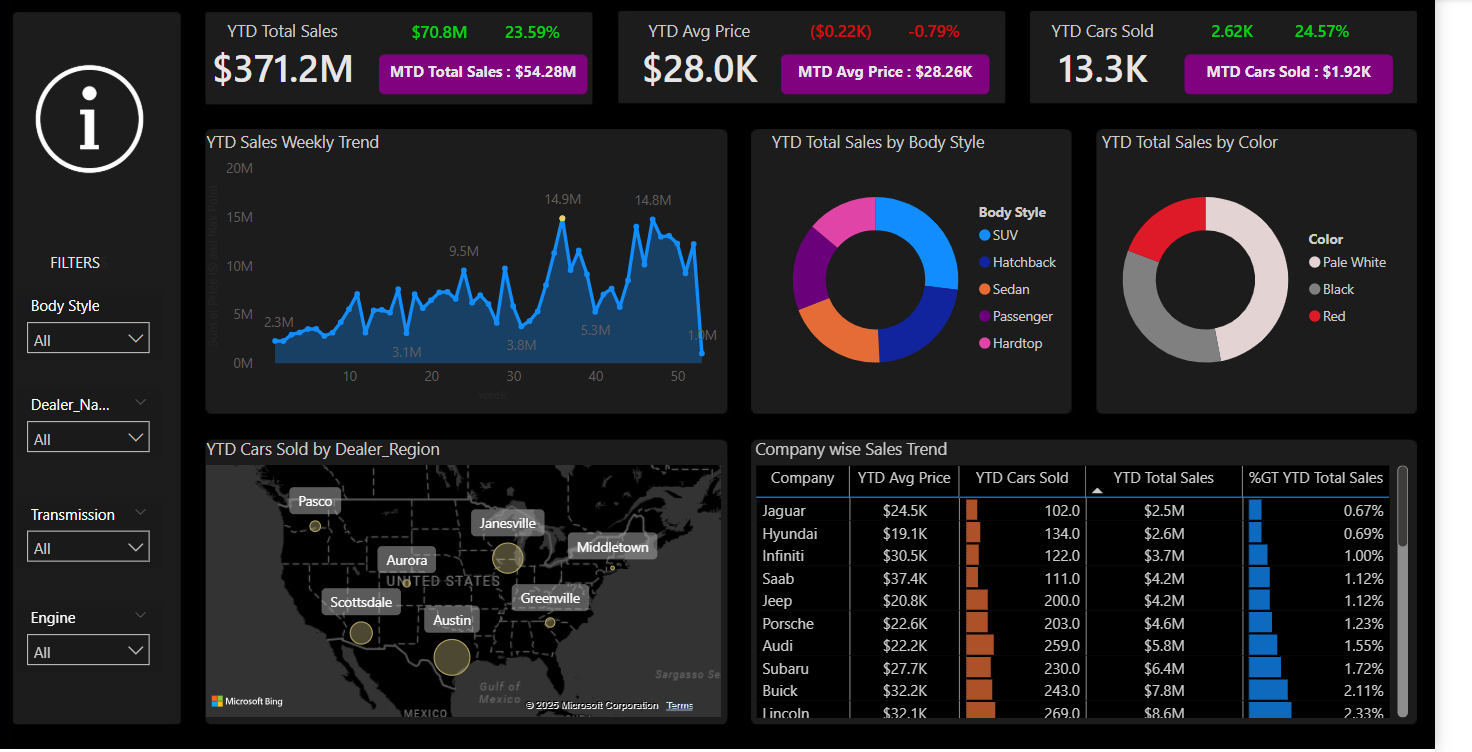

This screenshot's page, from the dashboard's own definition file:
{"tool":"powerbi","page":{"name":"Page 1","canvas":[1280,720],"ordinal":0},"visuals":[{"type":"card","title":"  YTD Total Sales","fields":{"Values":["car_data.YTD Total Sales"]},"box":[183.3,68,145.5,66.1],"z":0},{"type":"card","fields":{"Values":["car_data.Sales Difference"]},"box":[328.8,62.4,130.4,37.8],"z":1000},{"type":"card","fields":{"Values":["car_data.YoY Sales Growth"]},"box":[412,62.4,130.4,37.8],"z":2000},{"type":"card","fields":{"Values":["car_data.MTD KPI"]},"box":[341.7,100,185,35],"z":3000},{"type":"card","title":"  YTD Avg Price","fields":{"Values":["car_data.YTD Avg Price"]},"box":[553.3,68.3,145,66.7],"z":4000},{"type":"card","fields":{"Values":["car_data.Avg Price Diff"]},"box":[685,61.7,131.7,38.3],"z":5000},{"type":"card","fields":{"Values":["car_data.YoY Avg Price Growth"]},"box":[768.3,61.7,131.7,38.3],"z":6000},{"type":"card","fields":{"Values":["car_data.MTD Avg Price KPI"]},"box":[698.3,100,185,35],"z":7000},{"type":"card","title":"  YTD Cars Sold","fields":{"Values":["car_data.YTD Cars Sold"]},"box":[911.7,68.3,145,66.7],"z":8000},{"type":"card","fields":{"Values":["car_data.Cars Sold Diff"]},"box":[1033.3,61.7,131.7,38.3],"z":9000},{"type":"card","fields":{"Values":["car_data.YoY Car Sold Growth"]},"box":[1113.3,61.7,131.7,38.3],"z":10000},{"type":"card","fields":{"Values":["car_data.MTD Cars Sold KPI"]},"box":[1056.7,100,185,35],"z":11000},{"type":"areaChart","title":"YTD Sales Weekly Trend","fields":{"Category":["Calender Table.week"],"Y":["Sum(car_data.Price ($))","car_data.Max Point"]},"box":[182.9,167,467.6,246.5],"z":12000},{"type":"donutChart","fields":{"Category":["car_data.Body Style"],"Y":["car_data.YTD Total Sales"]},"box":[685.6,167,272,246.5],"z":13000},{"type":"donutChart","fields":{"Y":["car_data.YTD Total Sales"],"Category":["car_data.Color"]},"box":[978.2,167,272,246.5],"z":14000},{"type":"map","fields":{"Category":["car_data.Dealer_Region"],"Size":["car_data.YTD Cars Sold"]},"box":[182.9,440.6,467.6,254.5],"z":15000},{"type":"tableEx","title":"Company wise Sales Trend","fields":{"Values":["car_data.Company","car_data.YTD Avg Price","car_data.YTD Cars Sold","car_data.YTD Total Sales1","car_data.YTD Total Sales"]},"box":[671.2,440.6,590.1,254.5],"z":16000},{"type":"textbox","box":[447,0,450.1,44.5],"z":17000},{"type":"slicer","fields":{"Values":["car_data.Body Style"]},"box":[19.1,308.6,128.8,63.6],"z":18000},{"type":"slicer","fields":{"Values":["car_data.Dealer_Name"]},"box":[19.1,396.1,128.8,63.6],"z":19000},{"type":"slicer","fields":{"Values":["car_data.Transmission"]},"box":[19.1,493.1,128.8,63.6],"z":20000},{"type":"slicer","fields":{"Values":["car_data.Engine"]},"box":[19.1,585.3,128.8,63.6],"z":21000},{"type":"textbox","box":[44.5,268.8,151.1,39.8],"z":22000},{"type":"image","box":[27,100.2,114.5,114.5],"z":23000}]}

Visuals, with their boxes on the page's 1280x720 design canvas (x1, y1, x2, y2). These are canvas units, not pixel positions in the 1472x752 screenshot, which may show the page scaled, cropped or inside an application window:
"  YTD Total Sales" card: bbox=(183, 68, 329, 134)
card - car_data.Sales Difference: bbox=(329, 62, 459, 100)
card - car_data.YoY Sales Growth: bbox=(412, 62, 542, 100)
card - car_data.MTD KPI: bbox=(342, 100, 527, 135)
"  YTD Avg Price" card: bbox=(553, 68, 698, 135)
card - car_data.Avg Price Diff: bbox=(685, 62, 817, 100)
card - car_data.YoY Avg Price Growth: bbox=(768, 62, 900, 100)
card - car_data.MTD Avg Price KPI: bbox=(698, 100, 883, 135)
"  YTD Cars Sold" card: bbox=(912, 68, 1057, 135)
card - car_data.Cars Sold Diff: bbox=(1033, 62, 1165, 100)
card - car_data.YoY Car Sold Growth: bbox=(1113, 62, 1245, 100)
card - car_data.MTD Cars Sold KPI: bbox=(1057, 100, 1242, 135)
"YTD Sales Weekly Trend" areaChart: bbox=(183, 167, 650, 414)
donutChart - car_data.Body Style x car_data.YTD Total Sales: bbox=(686, 167, 958, 414)
donutChart - car_data.YTD Total Sales x car_data.Color: bbox=(978, 167, 1250, 414)
map - car_data.Dealer_Region x car_data.YTD Cars Sold: bbox=(183, 441, 650, 695)
"Company wise Sales Trend" tableEx: bbox=(671, 441, 1261, 695)
textbox: bbox=(447, 0, 897, 44)
slicer - car_data.Body Style: bbox=(19, 309, 148, 372)
slicer - car_data.Dealer_Name: bbox=(19, 396, 148, 460)
slicer - car_data.Transmission: bbox=(19, 493, 148, 557)
slicer - car_data.Engine: bbox=(19, 585, 148, 649)
textbox: bbox=(44, 269, 196, 309)
image: bbox=(27, 100, 142, 215)
